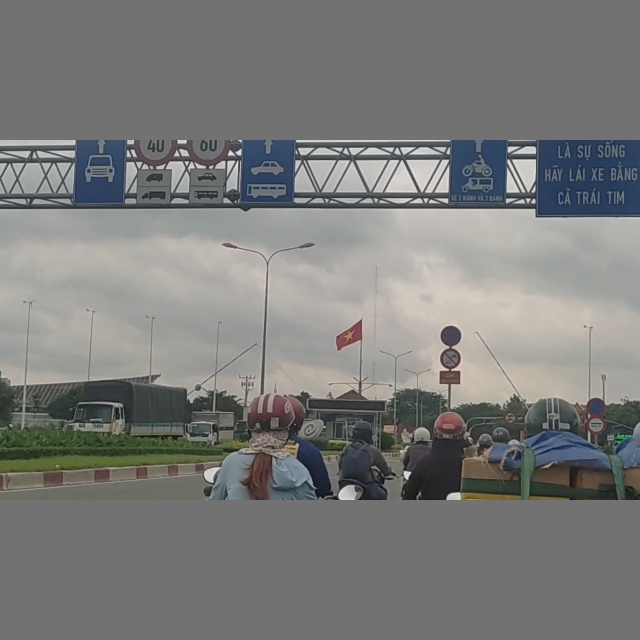P.107: (502, 412, 517, 424)
P.111: (440, 349, 461, 370)
P.127*40: (134, 141, 179, 166)
P.127*60: (187, 141, 230, 165)
P.129: (586, 417, 607, 433)
P.130: (441, 325, 463, 347)
P.131a: (585, 397, 607, 415)
